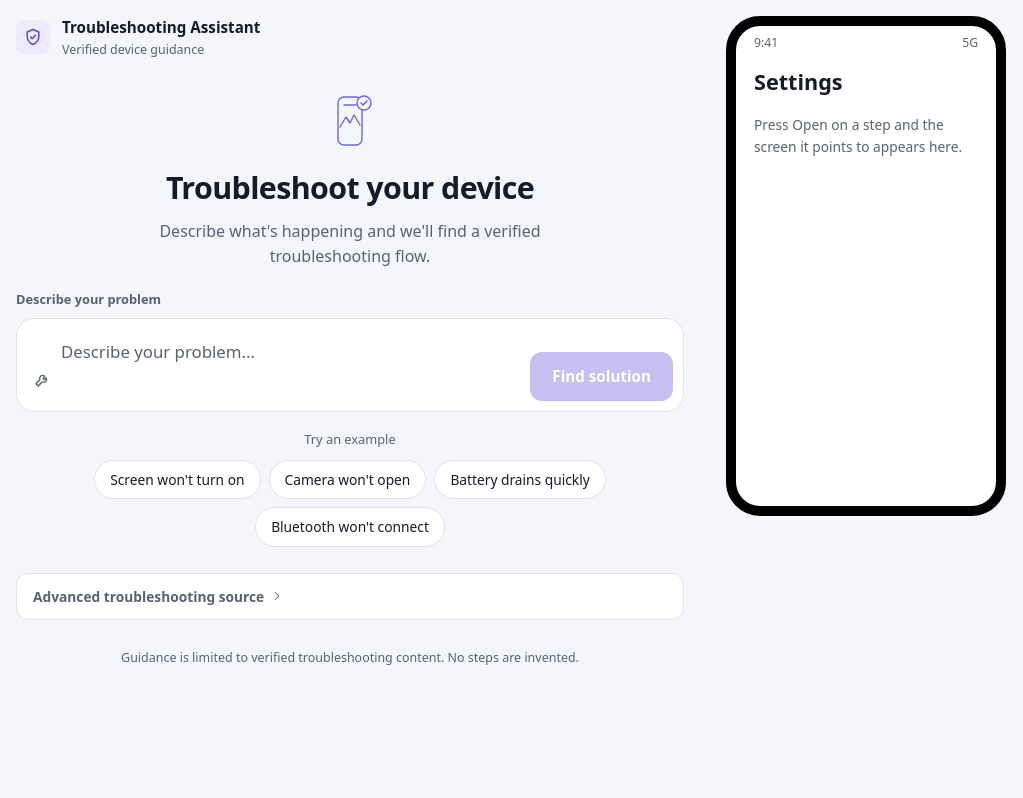
Test: App › offers example queries beneath the composer that run immediately
The image size is (1023, 798).
Click the button "Screen won't turn on".
click(177, 480)  # box [94,460,260,499]
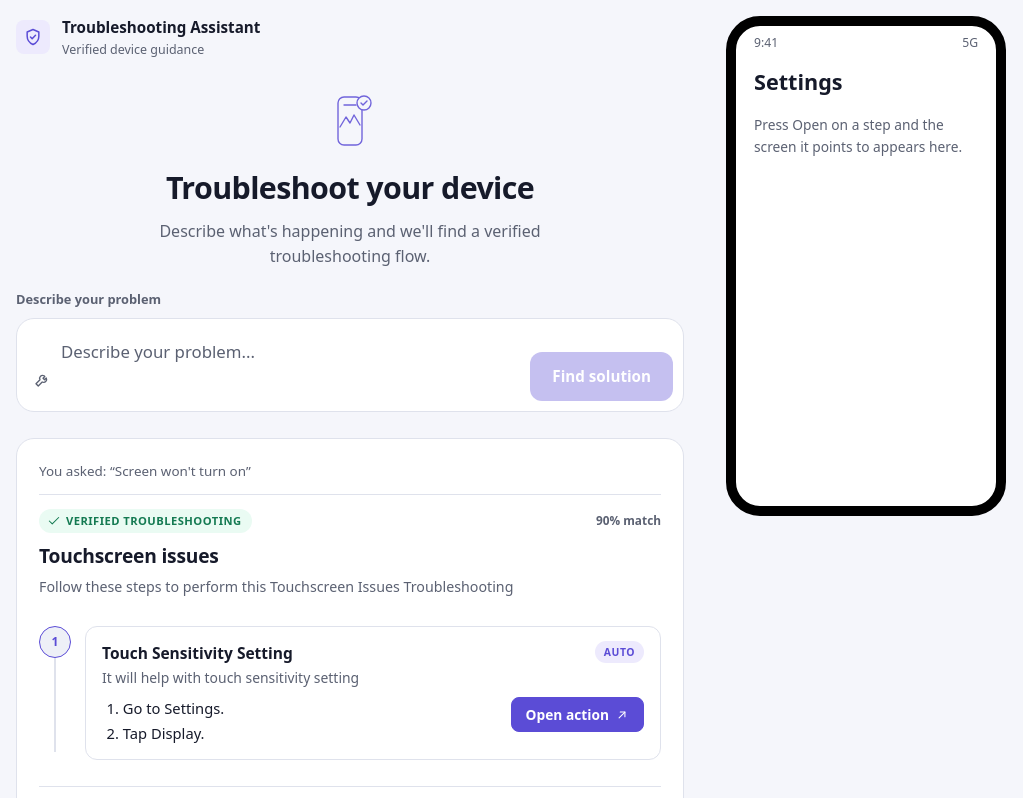
Now the text "Follow these steps to perform this Touchscreen Issues Troubleshooting" is shown, box [39,577,513,596]
